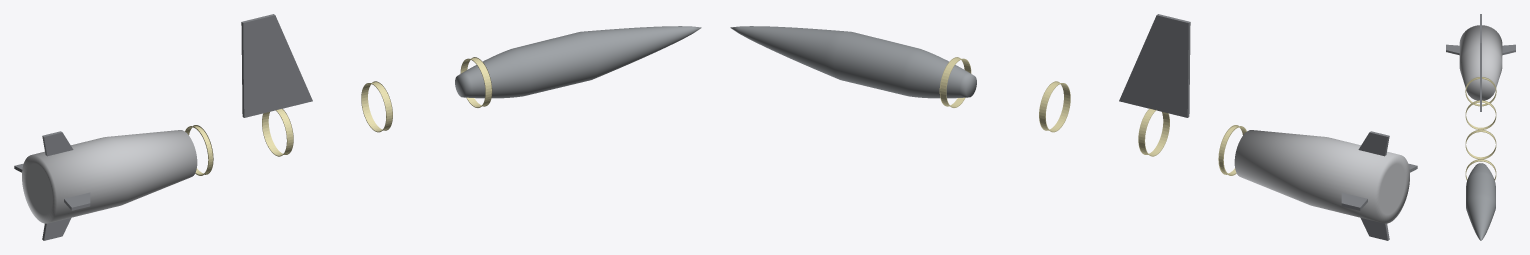
File: RU_ASM_Kalibr_3M54_LOD0.fbx
3 views of the same model, side by side, from view 1: azimuth 30°, elevation 25°; view 2: azimuth 150°, elevation 25°; view 3: azimuth 270°, elevation 25° (orthographic). The views are drawn at different scales.
Parts seen in each view (by area): view 1: WPN_RU_ASM_Kalibr_3M54_LOD0_Tail, WPN_RU_ASM_Kalibr_3M54_LOD0_Body, WPN_RU_ASM_Kalibr_3M54_LOD0_Wings, WPN_RU_ASM_Kalibr_3M54_LOD0_Marking, WPN_RU_ASM_Kalibr_3M54_LOD0_Fins; view 2: WPN_RU_ASM_Kalibr_3M54_LOD0_Tail, WPN_RU_ASM_Kalibr_3M54_LOD0_Body, WPN_RU_ASM_Kalibr_3M54_LOD0_Wings, WPN_RU_ASM_Kalibr_3M54_LOD0_Marking, WPN_RU_ASM_Kalibr_3M54_LOD0_Fins; view 3: WPN_RU_ASM_Kalibr_3M54_LOD0_Tail, WPN_RU_ASM_Kalibr_3M54_LOD0_Body, WPN_RU_ASM_Kalibr_3M54_LOD0_Marking, WPN_RU_ASM_Kalibr_3M54_LOD0_Fins, WPN_RU_ASM_Kalibr_3M54_LOD0_Wings.
Part boxes in pixels (bbox=[...]): WPN_RU_ASM_Kalibr_3M54_LOD0_Tail: bbox=[22, 130, 197, 223]; WPN_RU_ASM_Kalibr_3M54_LOD0_Body: bbox=[455, 26, 701, 98]; WPN_RU_ASM_Kalibr_3M54_LOD0_Wings: bbox=[241, 14, 312, 117]; WPN_RU_ASM_Kalibr_3M54_LOD0_Marking: bbox=[185, 57, 492, 175]; WPN_RU_ASM_Kalibr_3M54_LOD0_Fins: bbox=[14, 131, 90, 240]; WPN_RU_ASM_Kalibr_3M54_LOD0_Tail: bbox=[1234, 130, 1409, 223]; WPN_RU_ASM_Kalibr_3M54_LOD0_Body: bbox=[730, 26, 976, 98]; WPN_RU_ASM_Kalibr_3M54_LOD0_Wings: bbox=[1119, 14, 1190, 117]; WPN_RU_ASM_Kalibr_3M54_LOD0_Marking: bbox=[939, 57, 1246, 175]; WPN_RU_ASM_Kalibr_3M54_LOD0_Fins: bbox=[1341, 131, 1417, 240]; WPN_RU_ASM_Kalibr_3M54_LOD0_Tail: bbox=[1459, 25, 1502, 100]; WPN_RU_ASM_Kalibr_3M54_LOD0_Body: bbox=[1466, 163, 1495, 240]; WPN_RU_ASM_Kalibr_3M54_LOD0_Marking: bbox=[1465, 77, 1496, 180]; WPN_RU_ASM_Kalibr_3M54_LOD0_Fins: bbox=[1446, 14, 1515, 55]; WPN_RU_ASM_Kalibr_3M54_LOD0_Wings: bbox=[1480, 33, 1481, 111].
Size of the model in its own units: 8.2 by 1.23 by 2.
